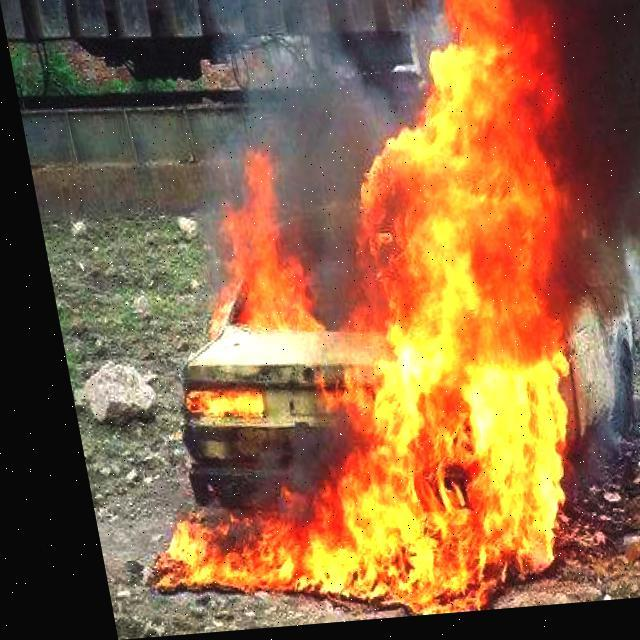Fire: (51, 0, 639, 620)
